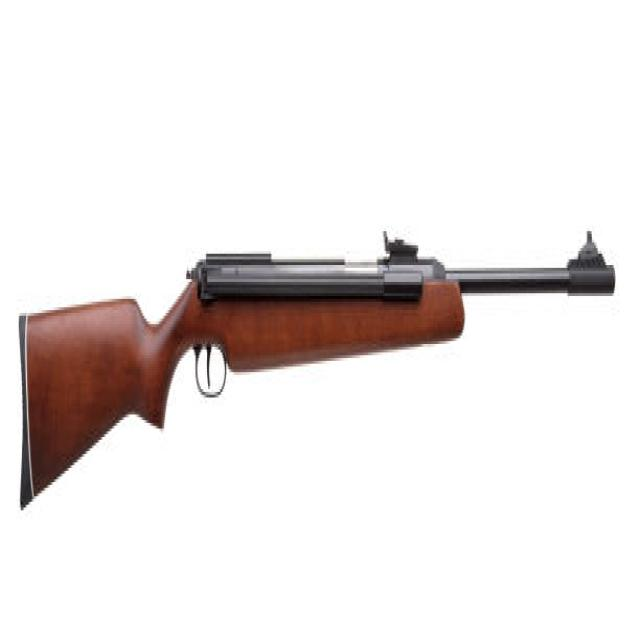rifle: (13, 205, 622, 539)
